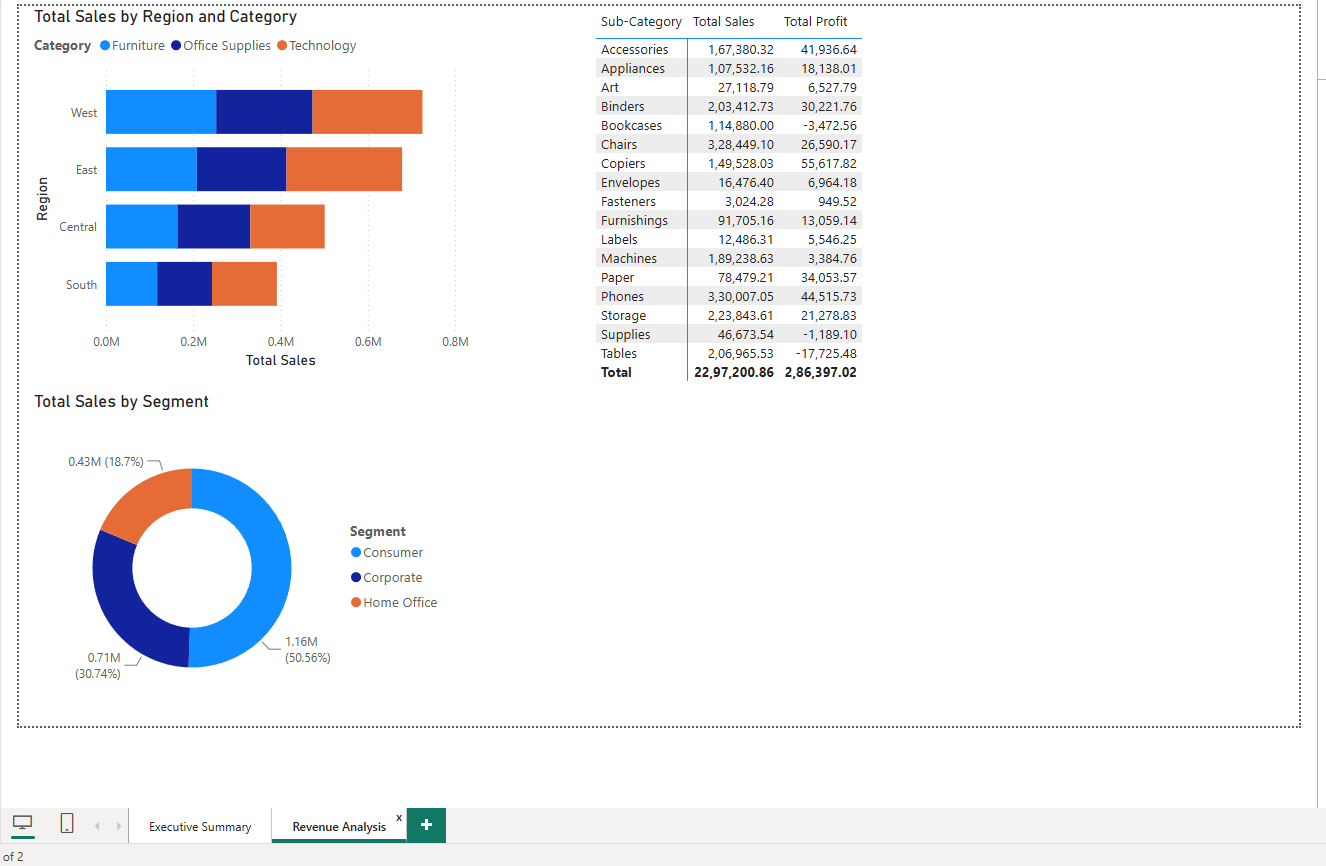

The dashboard page shown, as its layout file describes it:
{"tool":"powerbi","page":{"name":"Revenue Analysis","canvas":[1280,720],"ordinal":1},"visuals":[{"type":"barChart","fields":{"Category":["Sample_ Superstore.Region"],"Y":["Sample_ Superstore.Total Sales"],"Series":["Sample_ Superstore.Category"]},"box":[10,0,444.5,367.3],"z":0},{"type":"pivotTable","fields":{"Rows":["Sample_ Superstore.Sub-Category"],"Values":["Sample_ Superstore.Total Sales","Sample_ Superstore.Total Profit"]},"box":[571.8,0,544.5,384.5],"z":1},{"type":"donutChart","fields":{"Category":["Sample_ Superstore.Segment"],"Y":["Sample_ Superstore.Total Sales"]},"box":[10,384.5,422.7,335.5],"z":2}]}

Visuals, with their boxes on the page's 1280x720 design canvas (x1, y1, x2, y2). These are canvas units, not pixel positions in the 1326x866 screenshot, which may show the page scaled, cropped or inside an application window:
barChart - Sample_ Superstore.Region x Sample_ Superstore.Total Sales: 10,0,454,367
pivotTable - Sample_ Superstore.Sub-Category x Sample_ Superstore.Total Sales: 572,0,1116,384
donutChart - Sample_ Superstore.Segment x Sample_ Superstore.Total Sales: 10,384,433,720
